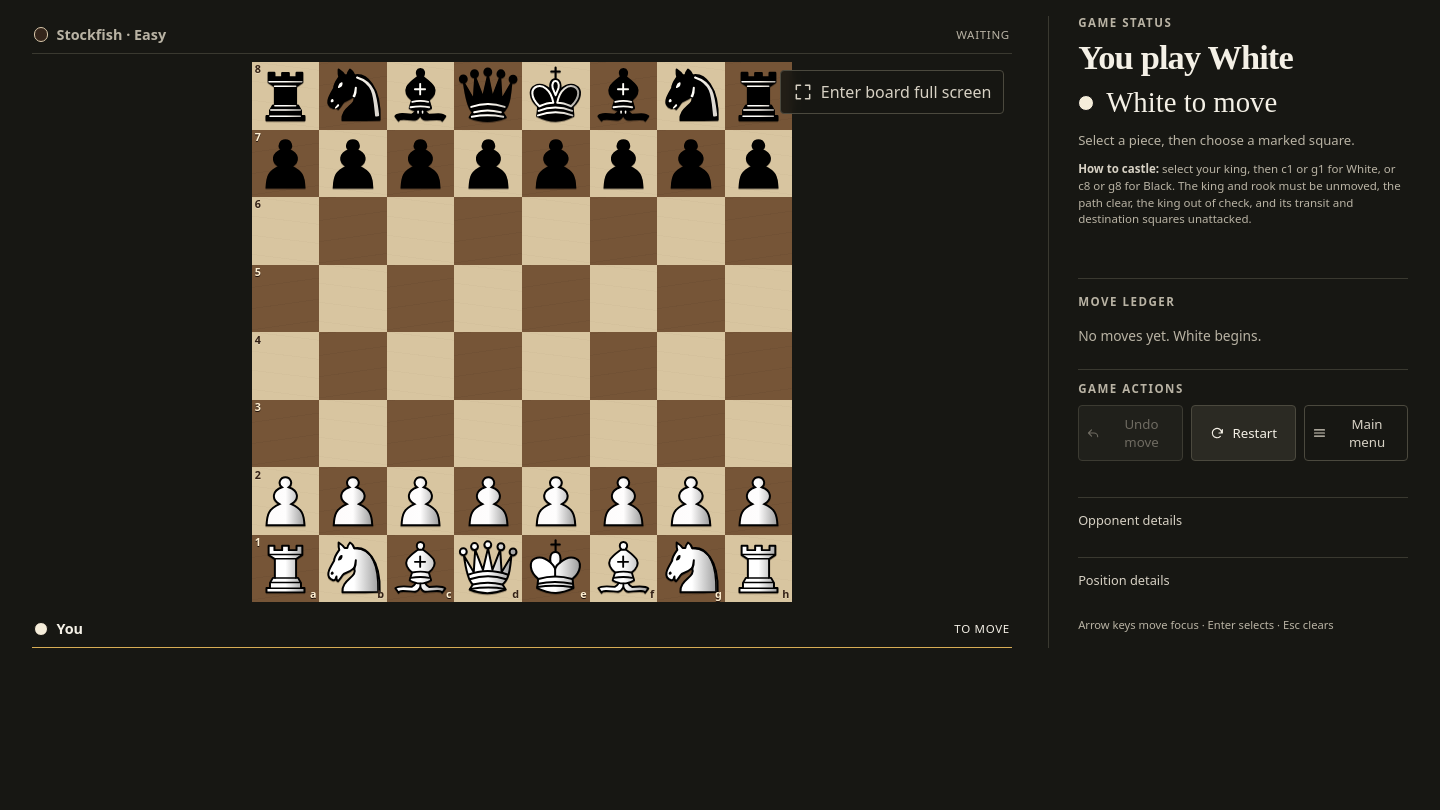
Scenario: computer game screen › undo returns the board to the player with both moves removed
Click the button named "e2, White pawn": (556, 501) [522,467,590,535]
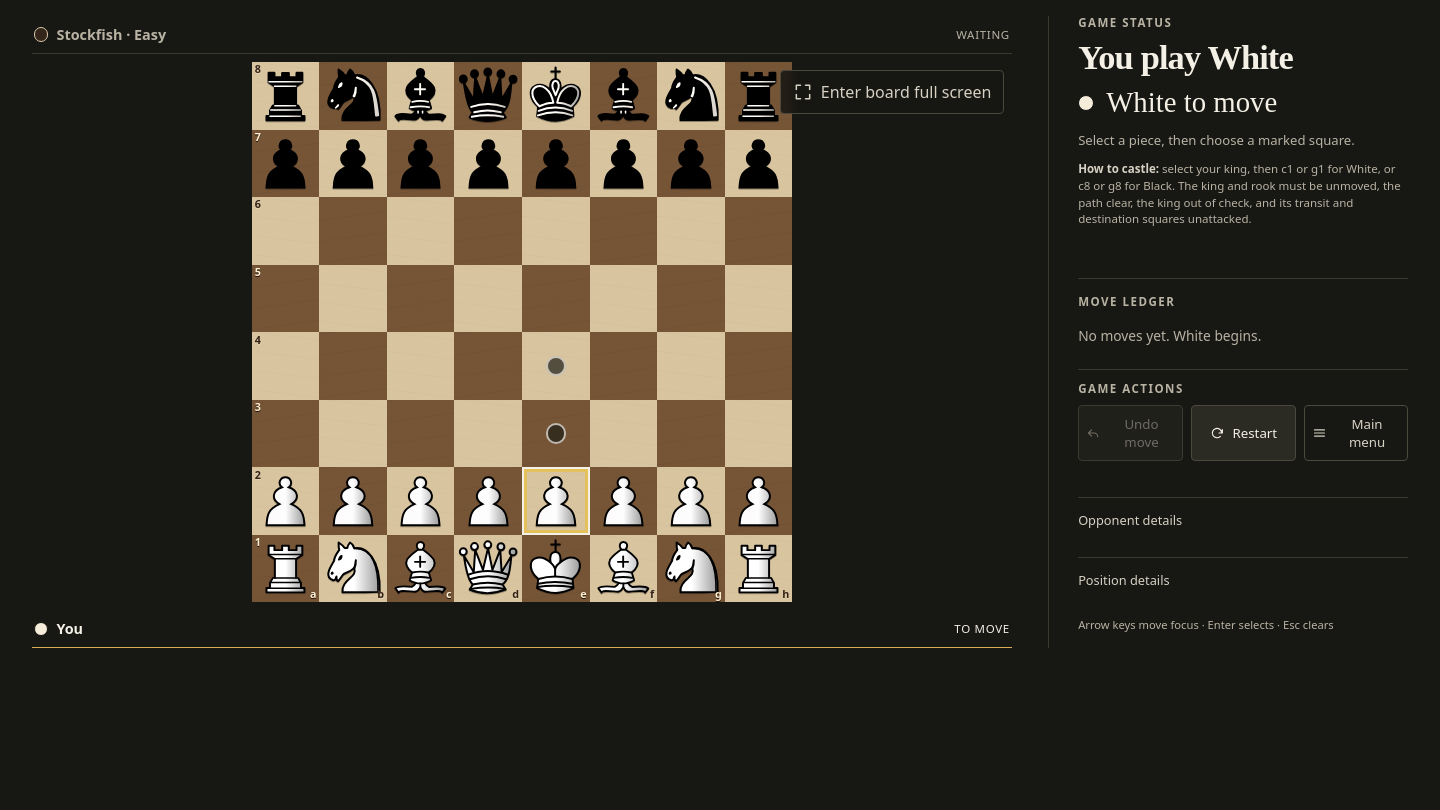
Click the button named "e4, empty": (556, 366) [522,332,590,400]
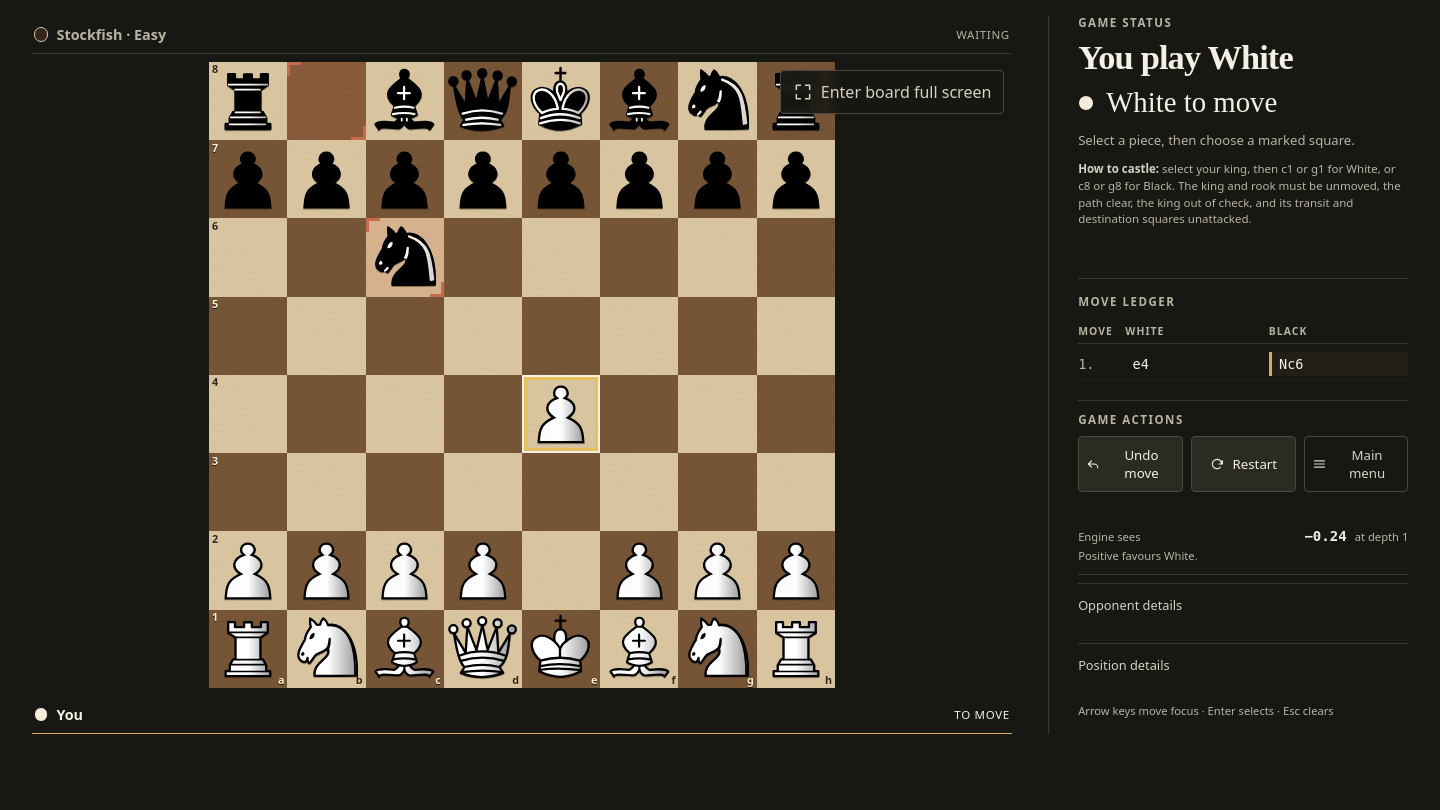
Click the button "Undo move": (1130, 464) [1078,436,1183,492]
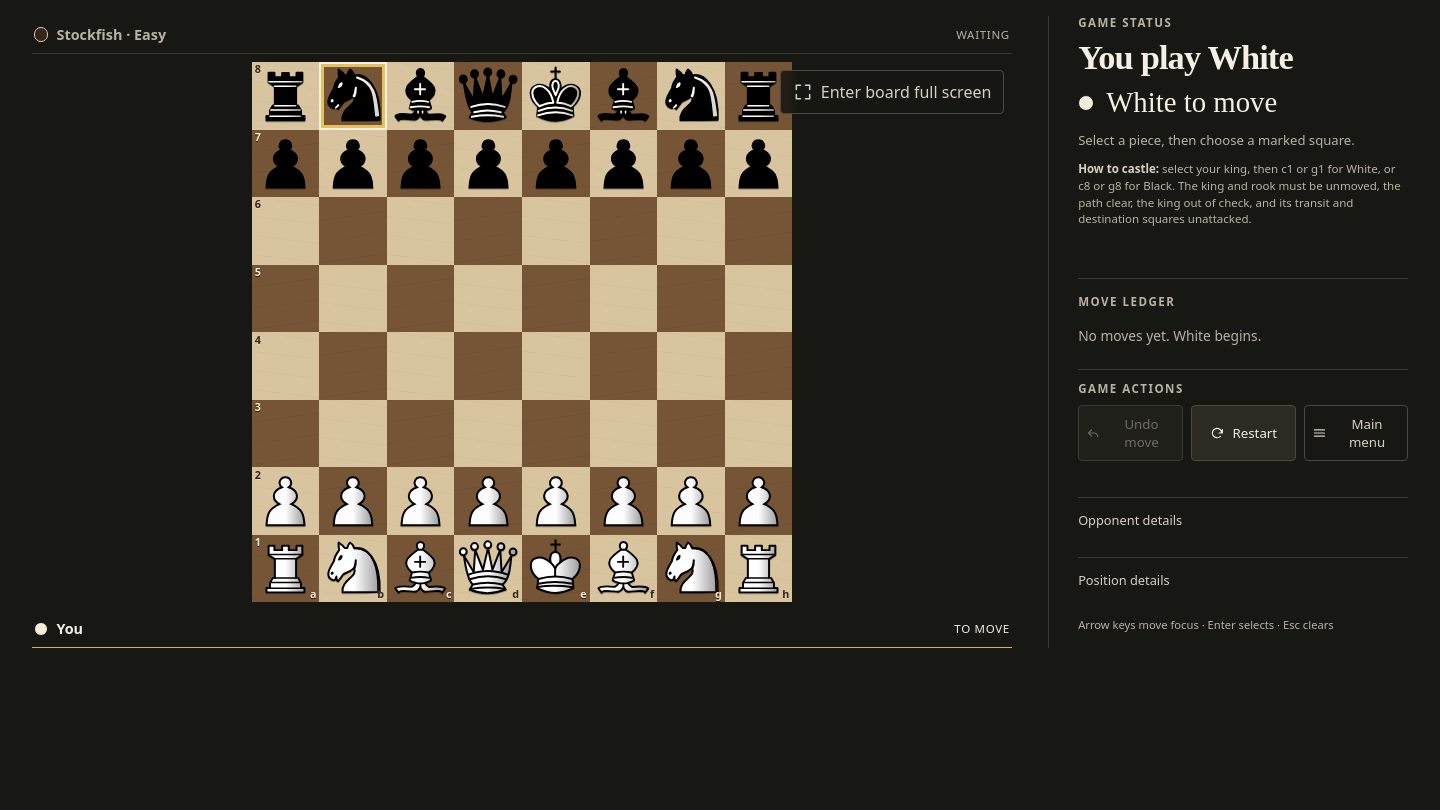
Expected: the message named "Game status" reads "White to move", [1106,86,1277,118]
Expected: the text "No moves yet." is shown, [1078,326,1170,345]
